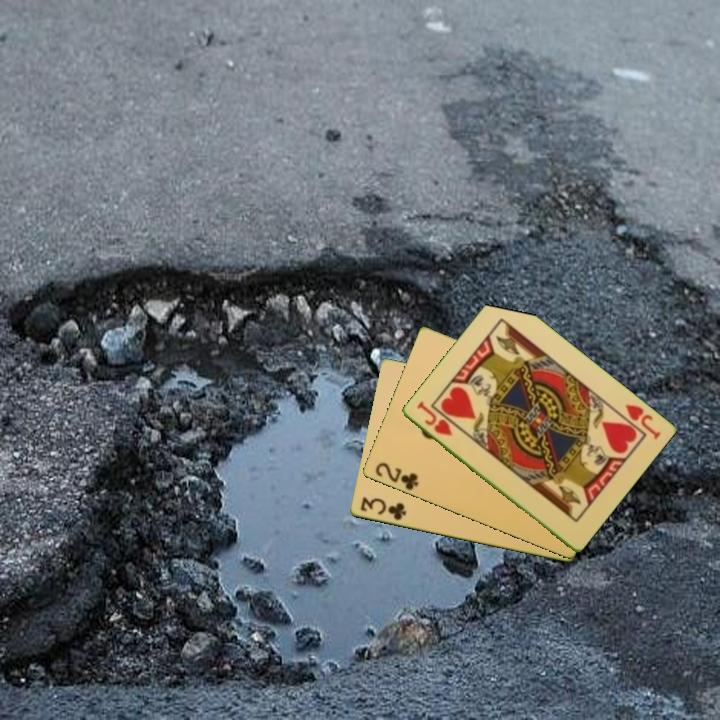2c: (371, 459, 421, 493)
3c: (357, 494, 409, 523)
Jh: (621, 400, 663, 442), (413, 398, 455, 439)
